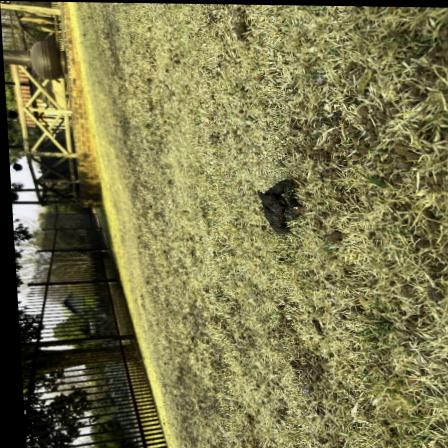dog-poop: (257, 173, 298, 238)
